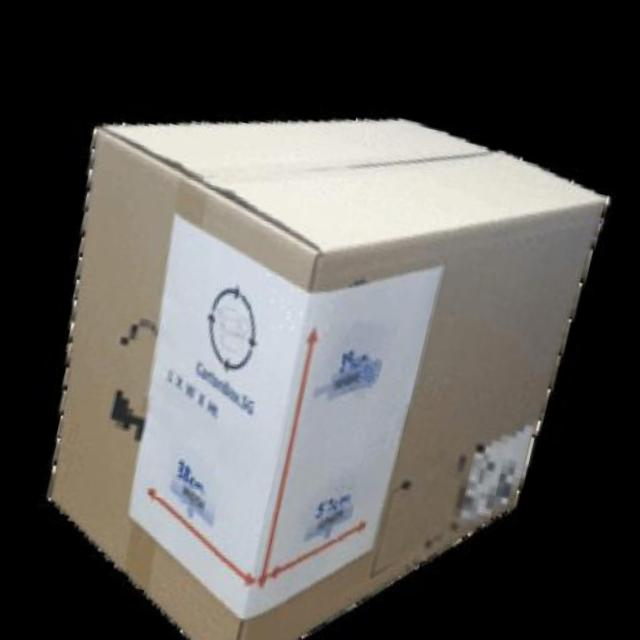box: (0, 27, 625, 640)
